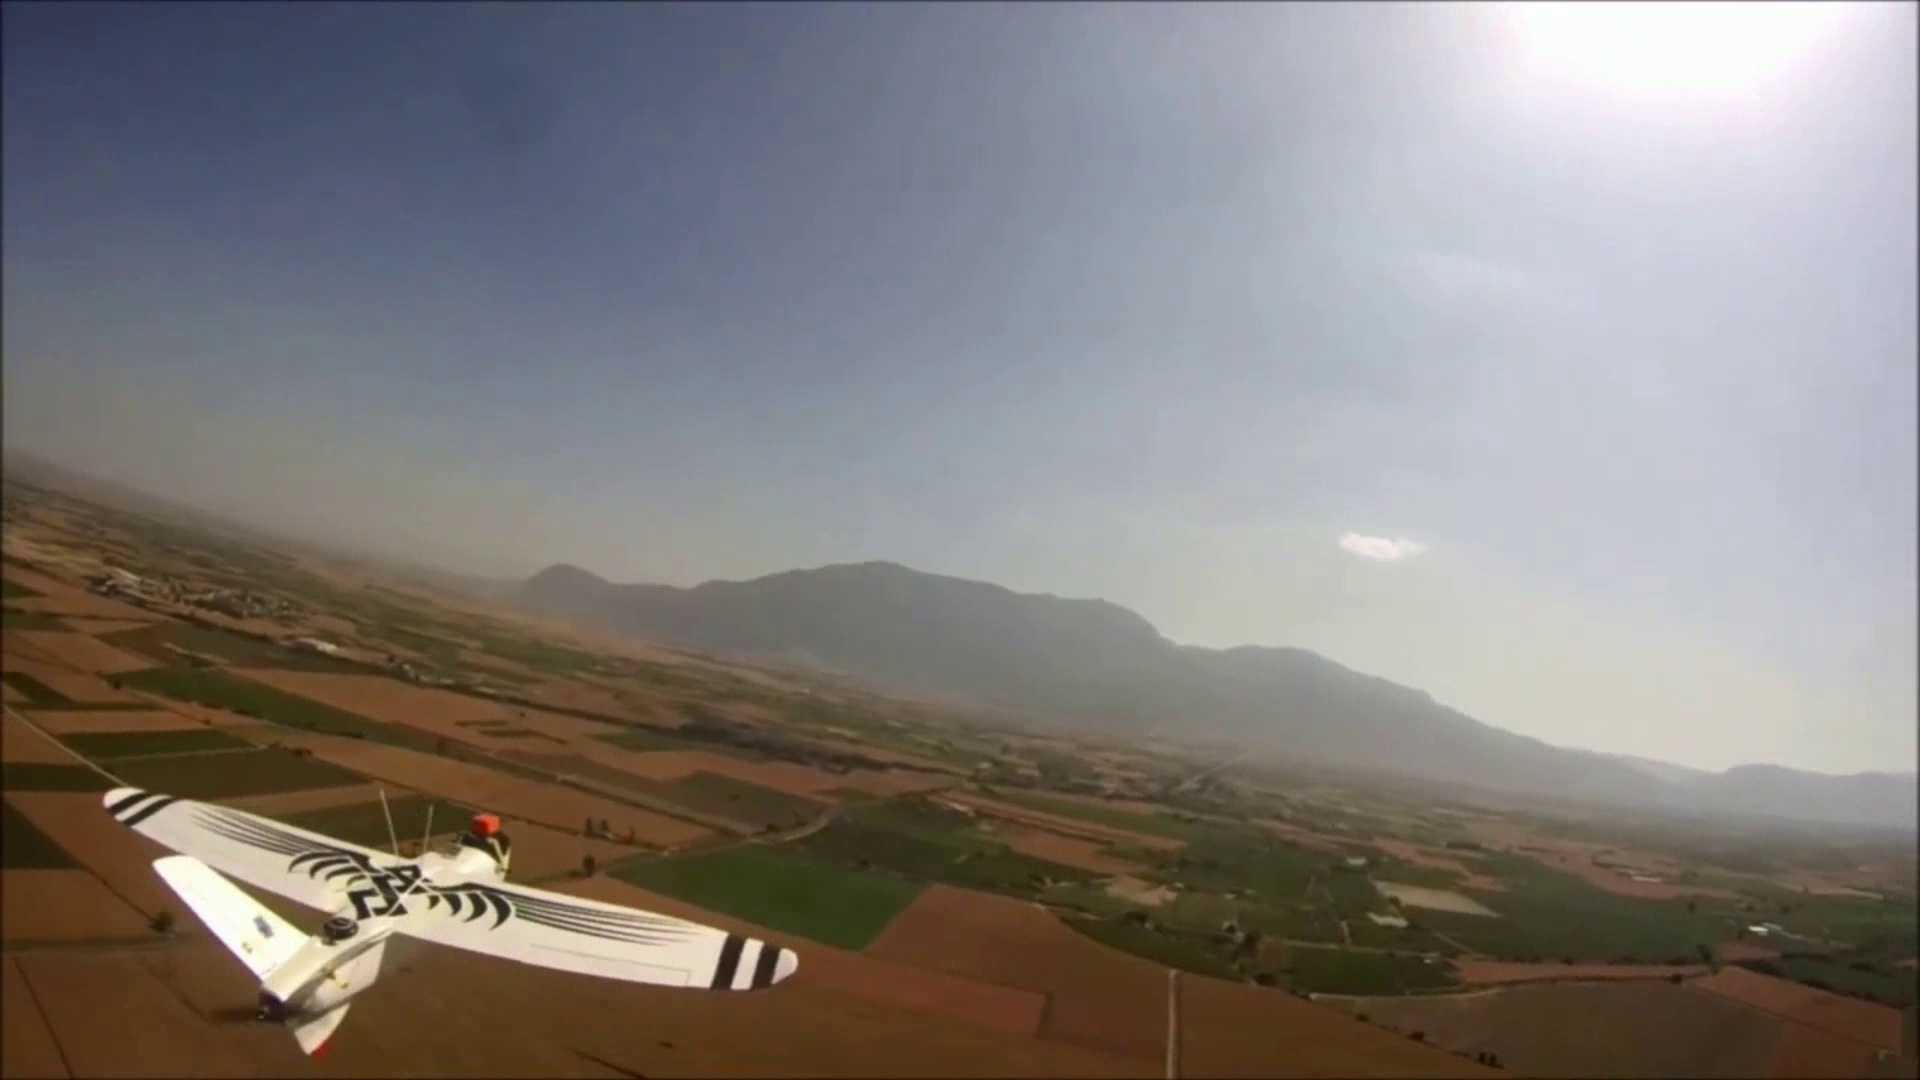airplane: (107, 789, 811, 1056)
